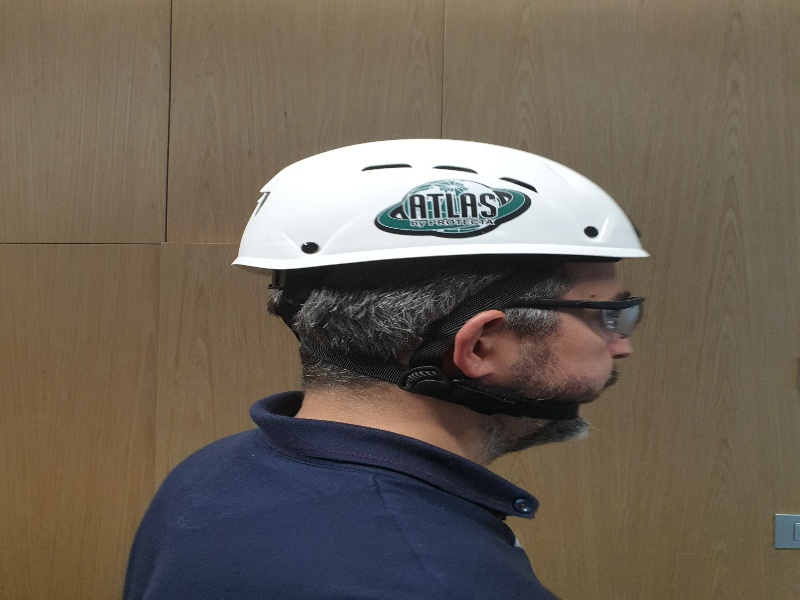Baret: (229, 138, 650, 265)
Gozluk: (489, 293, 647, 335)
